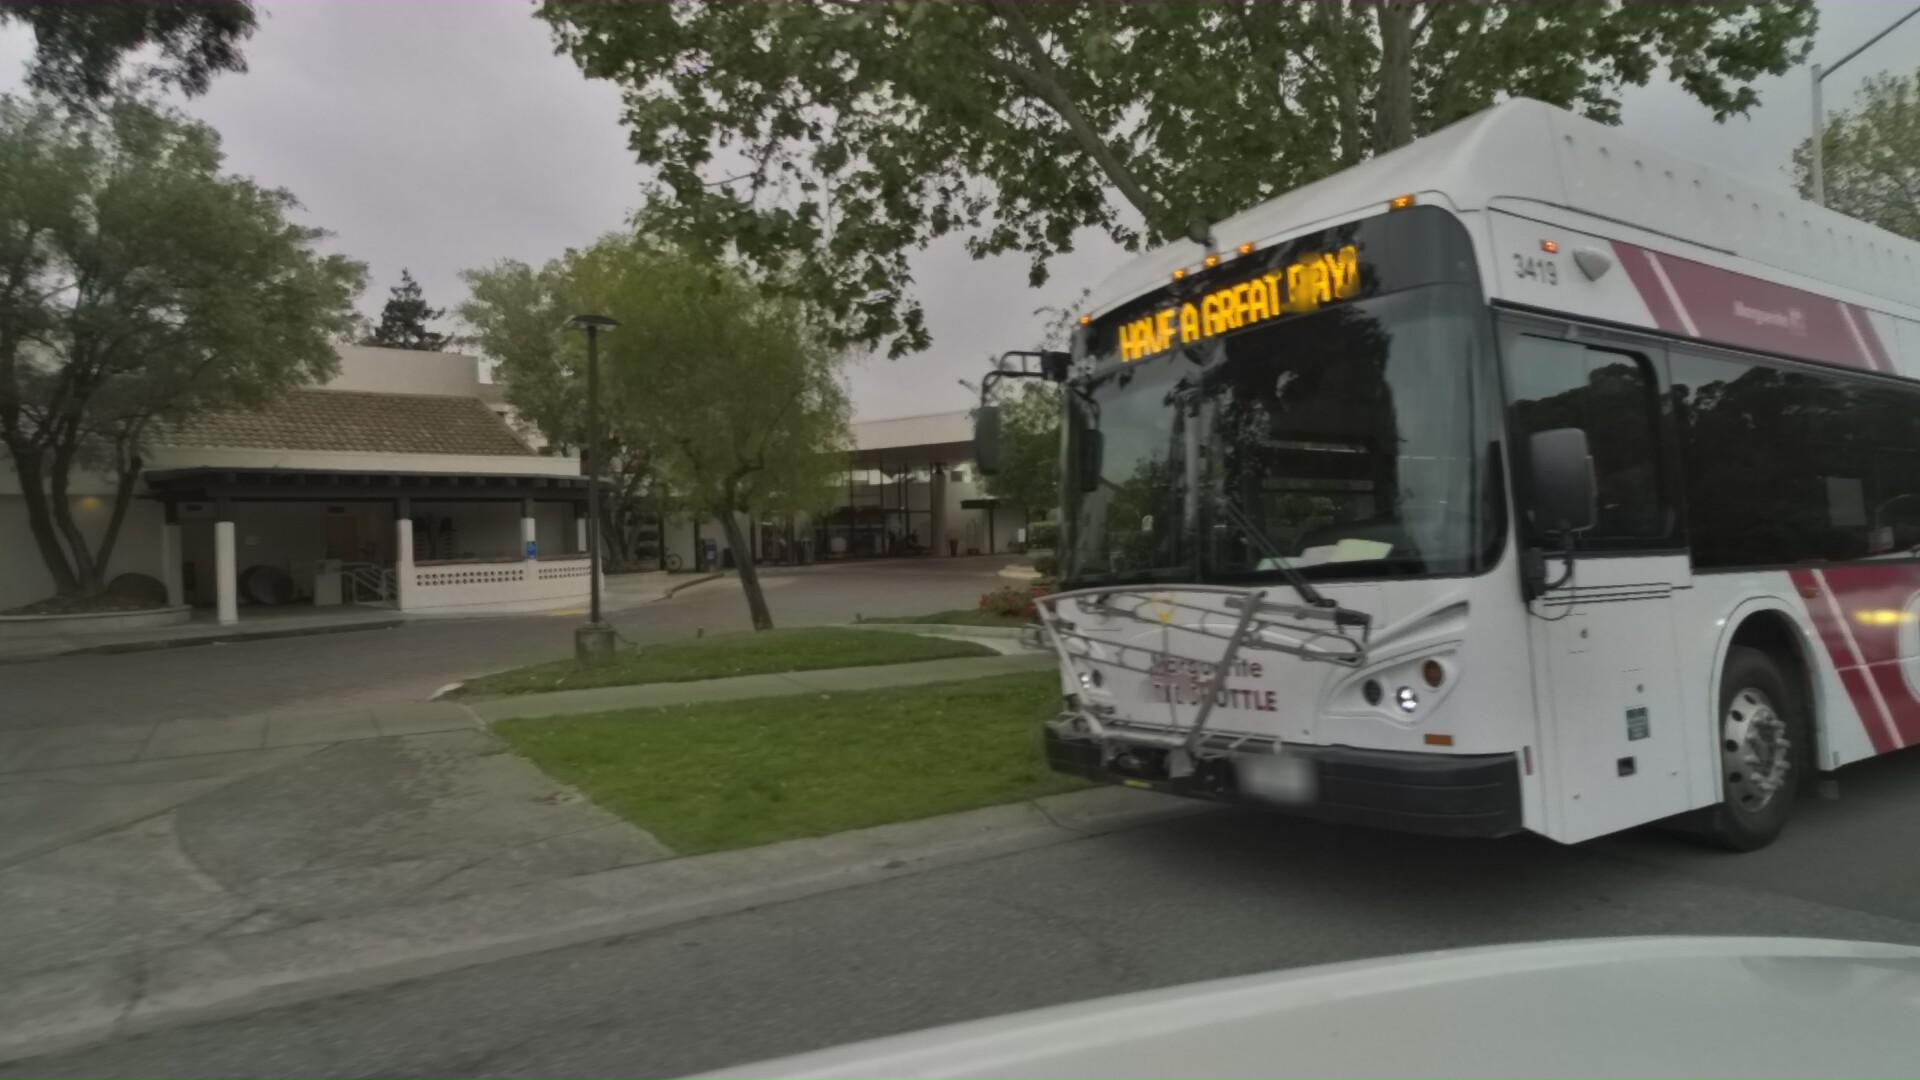bus: (956, 0, 1920, 1080)
car: (1031, 517, 1127, 556)
